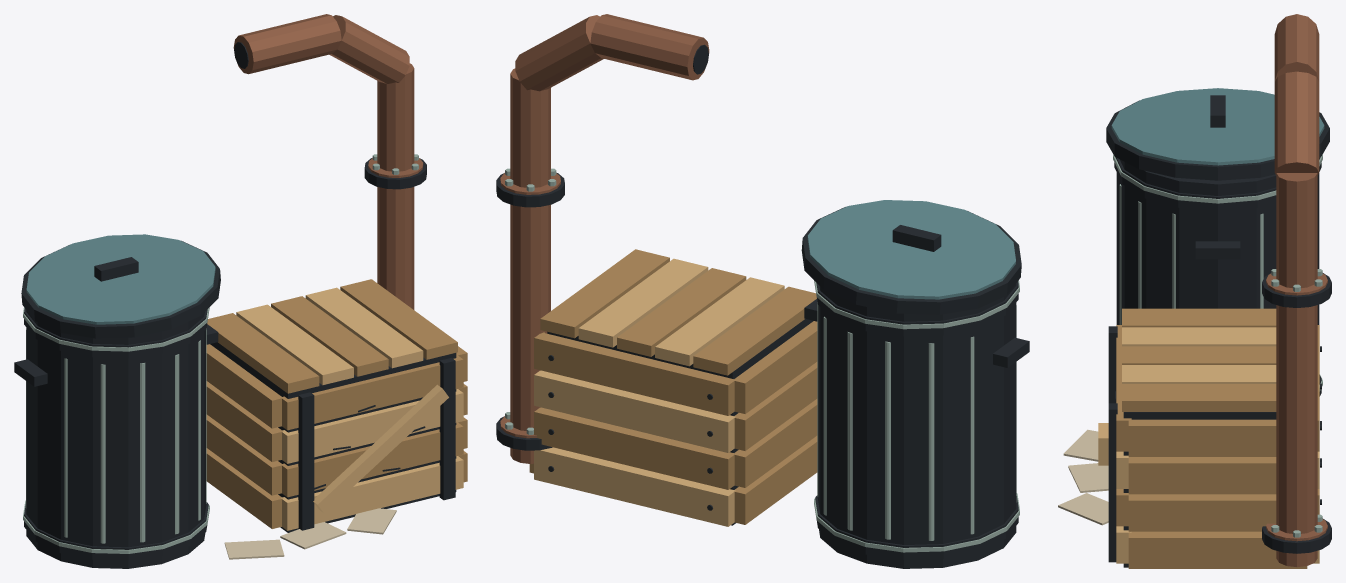
File: street_props.glb
3 renders of one model, left to right at view 1: azimuth 30°, elevation 25°; view 2: azimuth 150°, elevation 25°; view 3: azimuth 270°, elevation 25°, orthographic. The views are drawn at different scales.
Parts seen in each view (by area): view 1: StreetProps; view 2: StreetProps; view 3: StreetProps.
Boxes of the visible parts, x1=… form: StreetProps: x1=14, y1=14, x2=467, y2=568; StreetProps: x1=496, y1=14, x2=1029, y2=568; StreetProps: x1=1058, y1=14, x2=1331, y2=568.
Size of the model in its own units: 1.63 by 1.55 by 0.7984.
